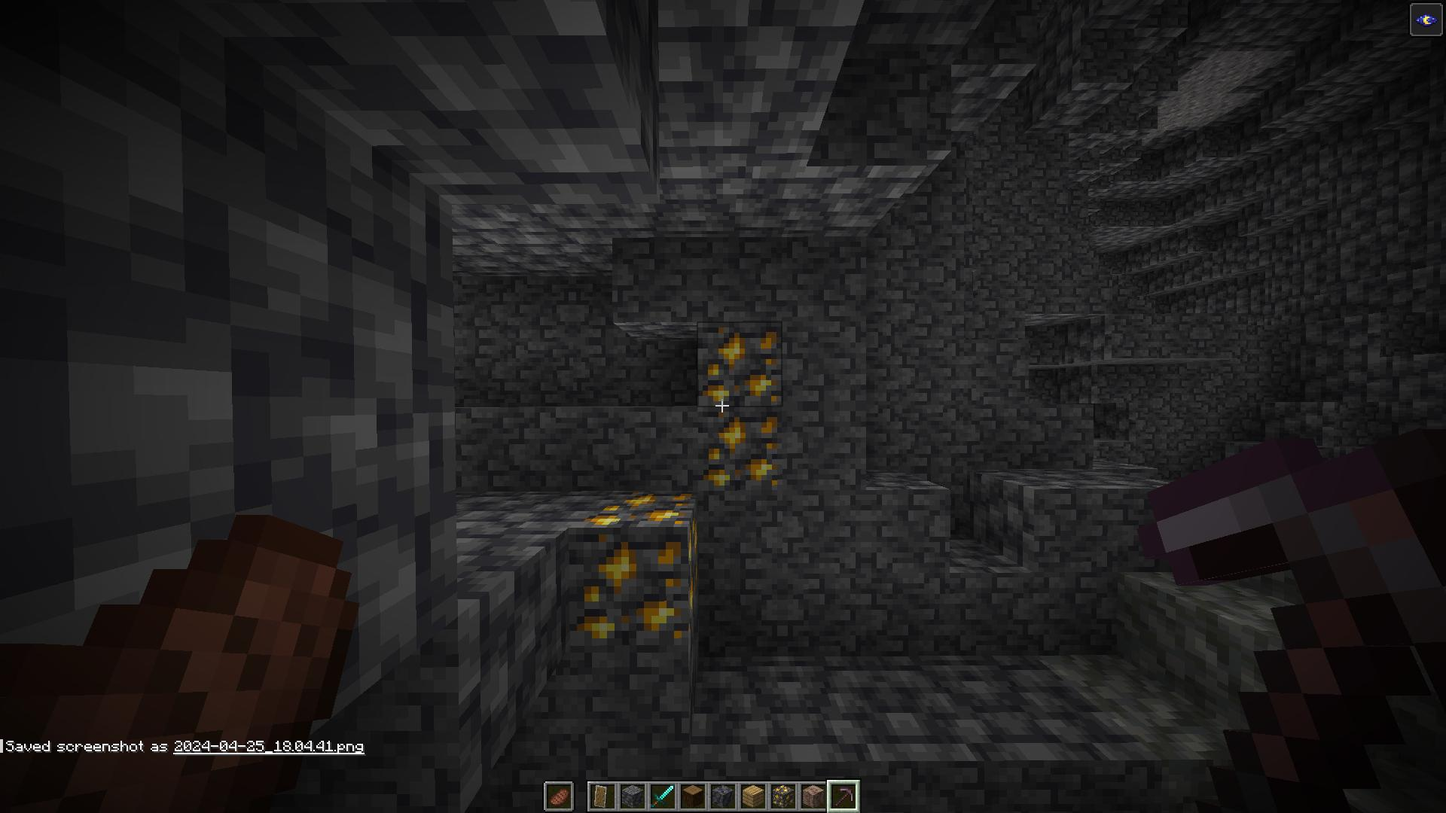gold ore: (697, 321, 785, 498), (561, 531, 695, 643), (587, 486, 695, 532)
